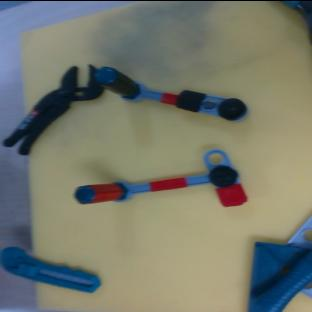non_pass: (91, 64, 250, 128)
pass: (74, 149, 246, 206)
